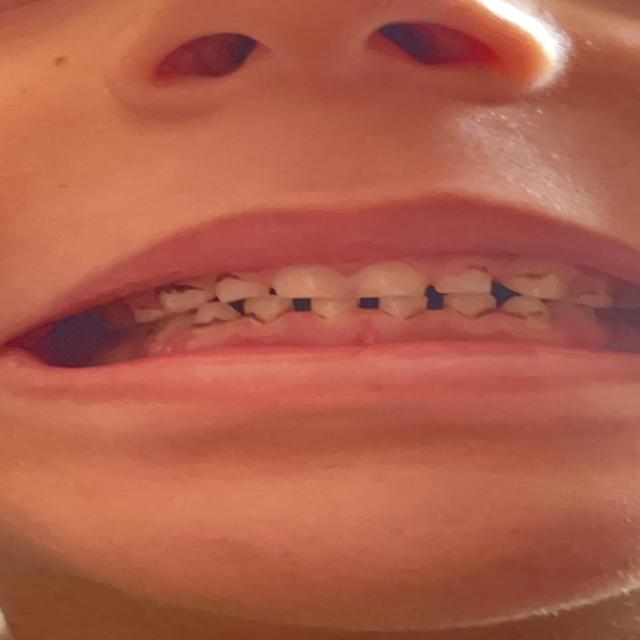tooth: (355, 264, 425, 292), (372, 291, 432, 319), (444, 290, 502, 316), (310, 294, 364, 316), (505, 293, 547, 321), (166, 288, 210, 314), (518, 272, 558, 300), (284, 274, 344, 292), (248, 298, 296, 320), (129, 302, 168, 324), (449, 270, 488, 290), (197, 304, 234, 324), (227, 277, 262, 297), (576, 282, 600, 306)
